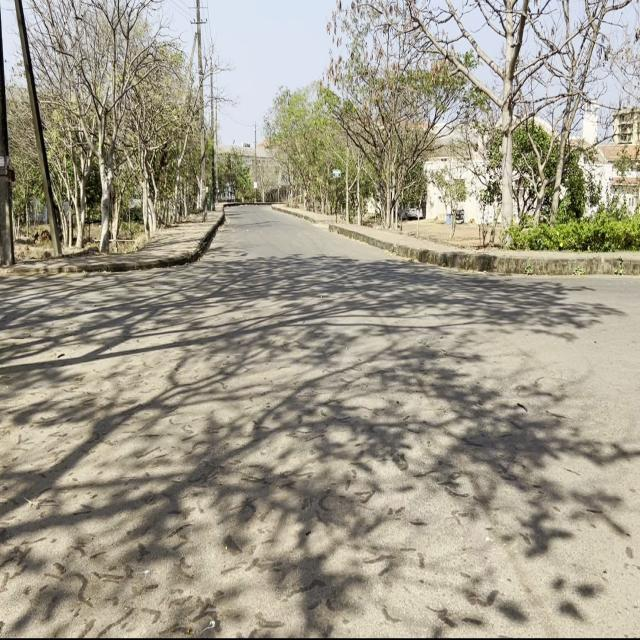Road: (3, 206, 636, 631)
